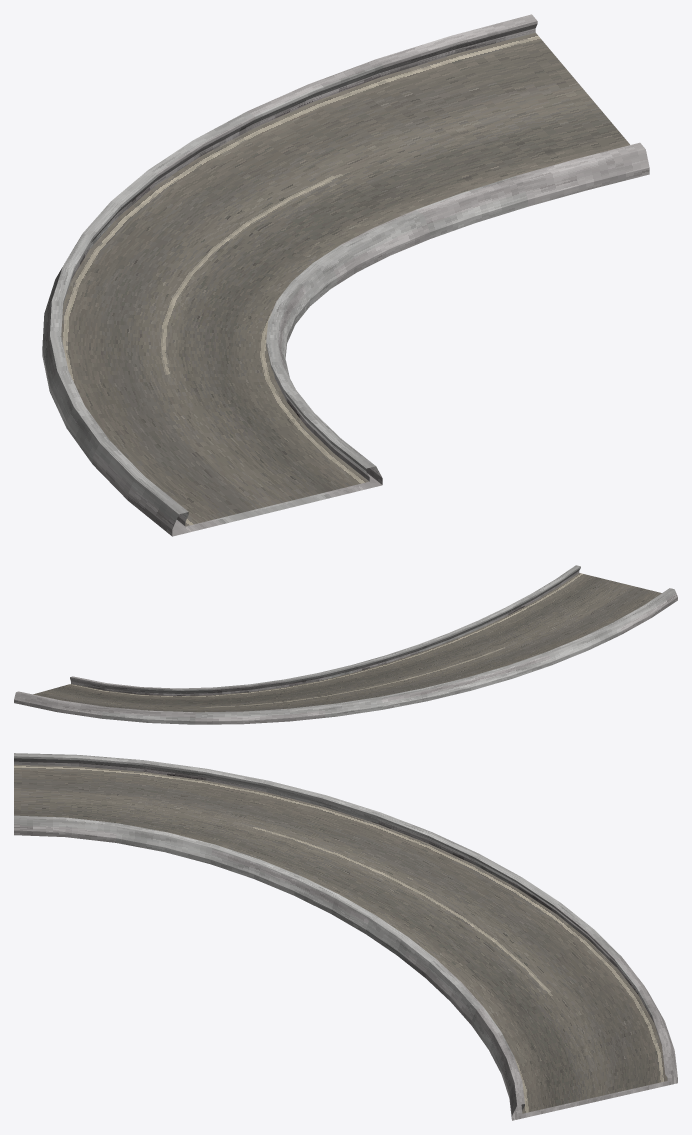
File: turn-right4x4.glb
3 views of the same model, one above another, from view 1: azimuth 30°, elevation 25°; view 2: azimuth 150°, elevation 25°; view 3: azimuth 270°, elevation 25° (orthographic). The views are drawn at different scales.
Visible parts, largest first — view 1: road-Turn-Flat-HalfBankedRight-Down2-Right-Size4; view 2: road-Turn-Flat-HalfBankedRight-Down2-Right-Size4; view 3: road-Turn-Flat-HalfBankedRight-Down2-Right-Size4.
Boxes of the visible parts, left/top/right/bottom form: road-Turn-Flat-HalfBankedRight-Down2-Right-Size4: left=42, top=14, right=649, bottom=536; road-Turn-Flat-HalfBankedRight-Down2-Right-Size4: left=14, top=565, right=677, bottom=724; road-Turn-Flat-HalfBankedRight-Down2-Right-Size4: left=14, top=753, right=677, bottom=1120.
Bounding box in the file's own units: 4 × 0.5938 × 4.
2 materials, 2 textured.
